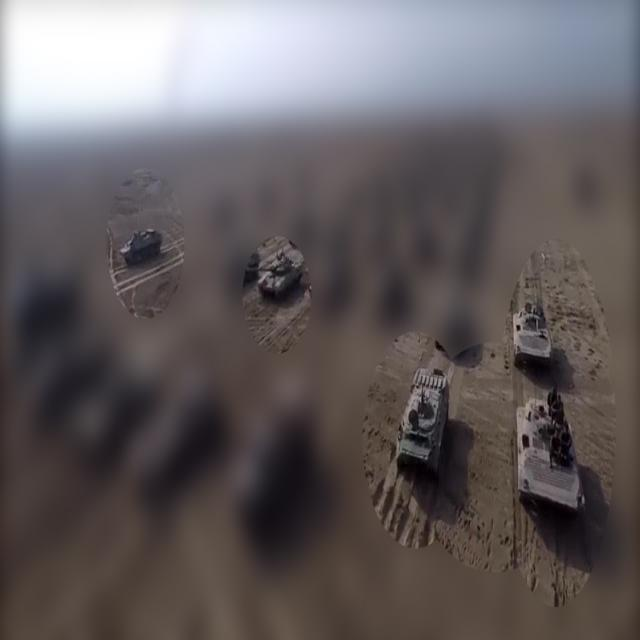tank: (512, 396, 591, 521), (393, 365, 452, 475), (248, 246, 306, 304), (512, 300, 554, 375), (120, 230, 164, 265)
